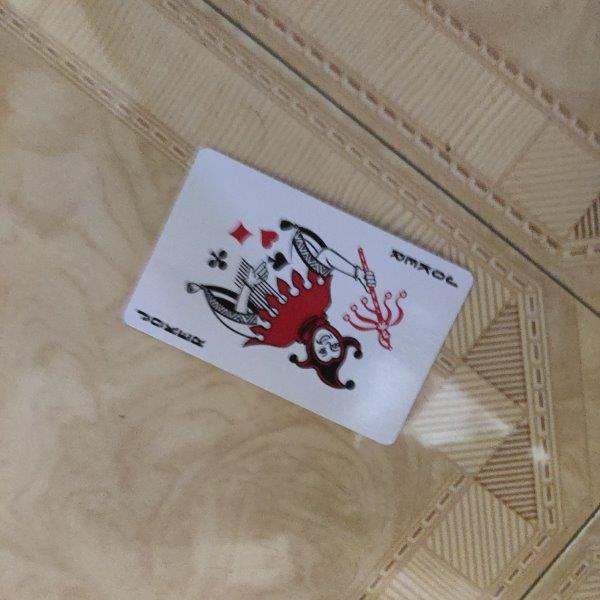Joker: (125, 148, 474, 447)
